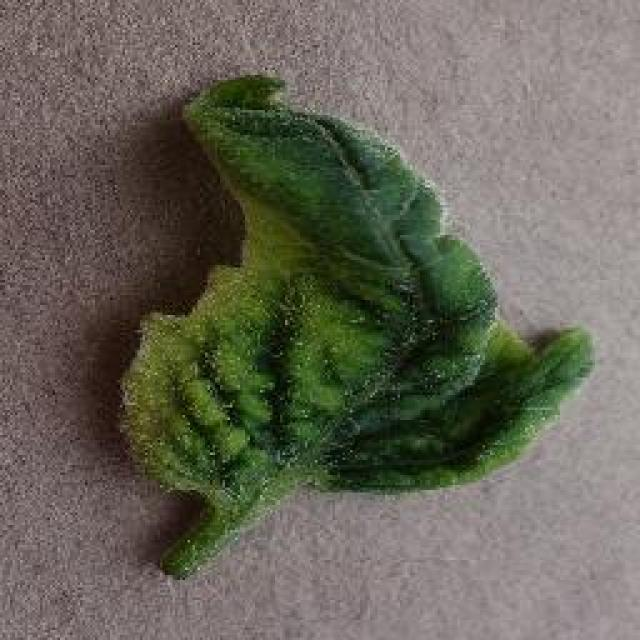Tomato yellow virus leaf: (114, 66, 586, 522)
